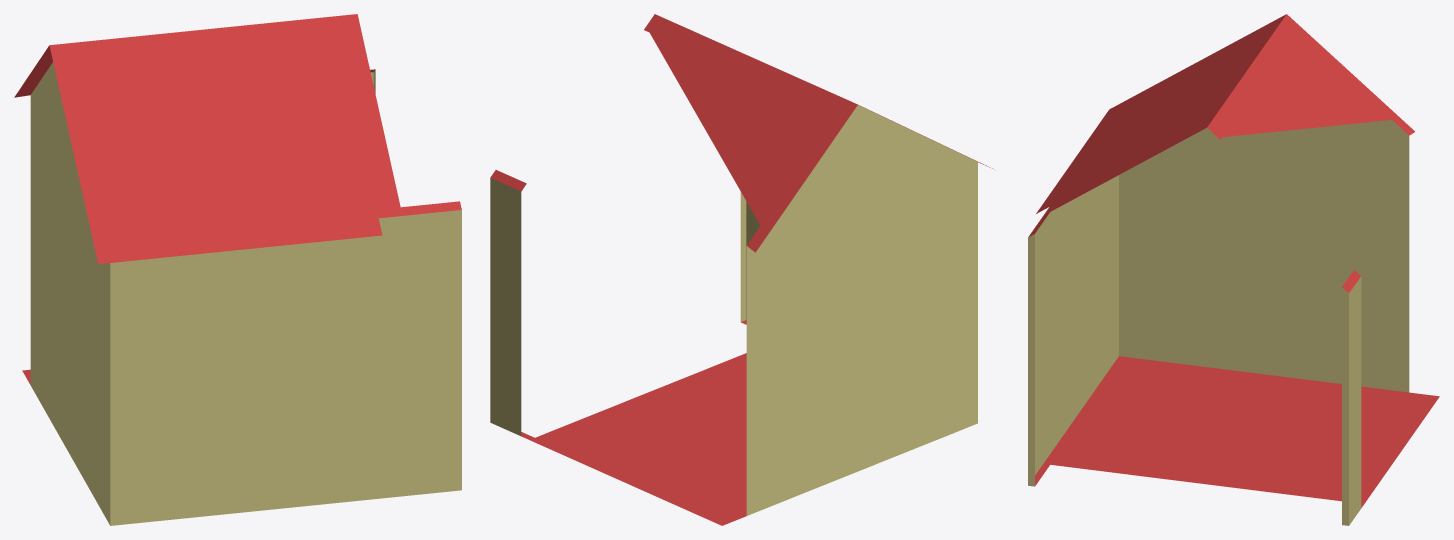
3 views of the same model, side by side, from view 1: azimuth 30°, elevation 25°; view 2: azimuth 150°, elevation 25°; view 3: azimuth 270°, elevation 25° (orthographic). The views are drawn at different scales.
Size of the model in its own units: 14.48 by 14.2 by 13.57.
